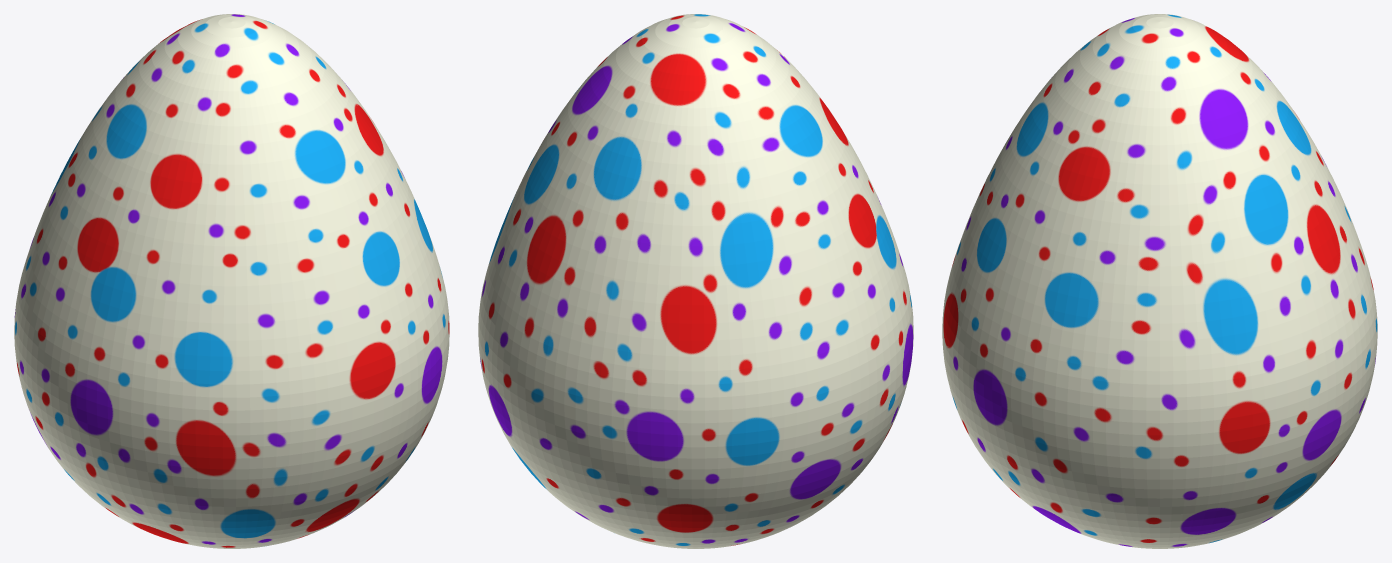
Rendered from Egg.obj.
3 views of the same model, side by side, from view 1: azimuth 30°, elevation 25°; view 2: azimuth 150°, elevation 25°; view 3: azimuth 270°, elevation 25° (orthographic).
Visible parts, largest first — view 1: Sphere; view 2: Sphere; view 3: Sphere.
Part boxes in pixels (x1,y1,x2,y2): Sphere: [14, 14, 449, 548]; Sphere: [478, 14, 913, 548]; Sphere: [942, 14, 1377, 548].
Size of the model in its own units: 2 by 2.57 by 2.
